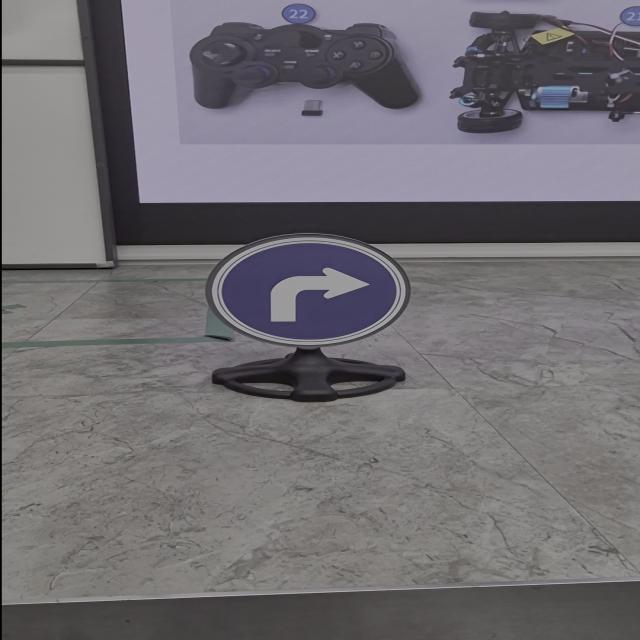right_dierection: (188, 228, 430, 349)
